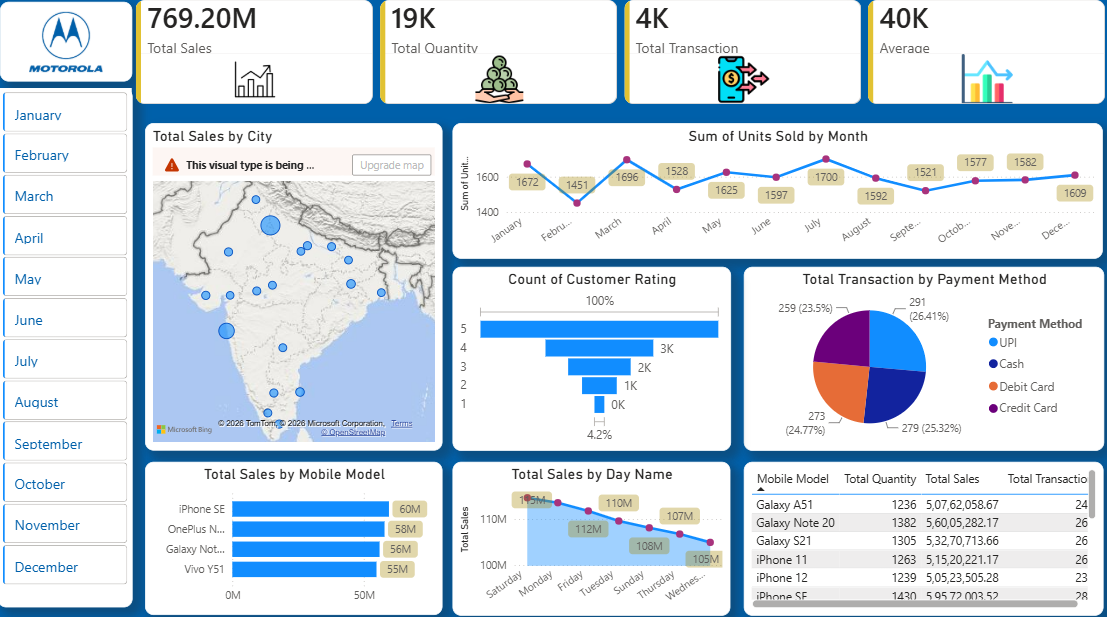

This screenshot's page, from the dashboard's own definition file:
{"tool":"powerbi","page":{"name":"Mobile Sales DASHBOARD","canvas":[1280,720],"ordinal":0},"visuals":[{"type":"shape","box":[5,10.5,151,91],"z":0},{"type":"shape","box":[3.3,108.3,154.2,593.3],"z":1000},{"type":"advancedSlicerVisual","fields":{"Values":["Sheet1.DATE.Variation.Date Hierarchy.Month"]},"box":[4.8,108.6,152,583.9],"z":2000},{"type":"image","box":[8,14,144.5,83.5],"z":3000},{"type":"cardVisual","fields":{"Data":["Sheet1.Total Sales","sales data.Total Quantity","sales data.Total Transaction","sales data.Average"]},"box":[152.9,0,1127.1,135.7],"z":4000},{"type":"map","fields":{"Category":["sales data.City"],"Size":["sales data.Total Sales"]},"box":[171,149,340,374],"z":5000},{"type":"lineChart","fields":{"Y":["Sum(sales data.Units Sold)"],"Category":["sales data.DATE.Variation.Date Hierarchy.Month"]},"box":[523.3,148.3,743.3,155],"z":6000},{"type":"barChart","fields":{"Category":["sales data.Mobile Model"],"Y":["sales data.Total Sales"]},"box":[171,536,340,175],"z":7000},{"type":"pieChart","fields":{"Category":["sales data.Payment Method"],"Y":["sales data.Total Transaction"]},"box":[855,313,412,210],"z":8000},{"type":"funnel","title":"Count of Customer Rating ","fields":{"Y":["Sum(sales data.Customer Ratings)"],"Category":["sales data.Customer Ratings"]},"box":[523,313,318,210],"z":9000},{"type":"areaChart","fields":{"Category":["sales data.Day Name"],"Y":["sales data.Total Sales"]},"box":[523.1,536.2,317.7,176.2],"z":10000},{"type":"tableEx","fields":{"Values":["sales data.Mobile Model","sales data.Total Quantity","sales data.Total Sales","sales data.Total Transaction"]},"box":[855.4,536.2,411.5,176.2],"z":11000}]}

Visuals, with their boxes in screenshot pixels (x1, y1, x2, y2), scaled from the page's 1280x720 canvas onto the 1107x617 screenshot:
shape: box=[4, 9, 135, 87]
shape: box=[3, 93, 136, 601]
advancedSlicerVisual - Sheet1.DATE.Variation.Date Hierarchy.Month: box=[4, 93, 136, 593]
image: box=[7, 12, 132, 84]
cardVisual - Sheet1.Total Sales x sales data.Total Quantity: box=[132, 0, 1106, 116]
map - sales data.City x sales data.Total Sales: box=[148, 128, 442, 448]
lineChart - Sum(sales data.Units Sold) x sales data.DATE.Variation.Date Hierarchy.Month: box=[453, 127, 1095, 260]
barChart - sales data.Mobile Model x sales data.Total Sales: box=[148, 459, 442, 609]
pieChart - sales data.Payment Method x sales data.Total Transaction: box=[739, 268, 1096, 448]
"Count of Customer Rating " funnel: box=[452, 268, 727, 448]
areaChart - sales data.Day Name x sales data.Total Sales: box=[452, 459, 727, 610]
tableEx - sales data.Mobile Model x sales data.Total Quantity: box=[740, 459, 1096, 610]
